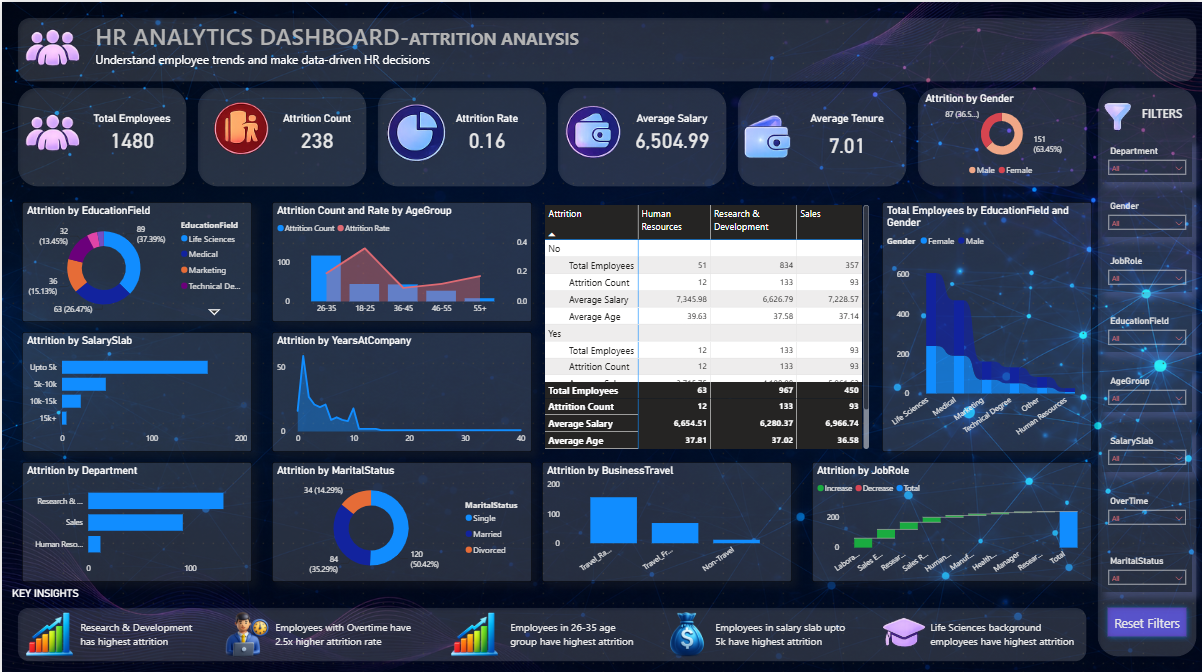

The dashboard page shown, as its layout file describes it:
{"tool":"powerbi","page":{"name":"Executive Dashboard","canvas":[1920,1080],"ordinal":0},"visuals":[{"type":"shape","box":[16,16,1904,120],"z":0},{"type":"image","box":[32,24,96,96],"z":1000},{"type":"pivotTable","fields":{"Rows":["HR Data.Attrition"],"Values":["Measures (3).Total Employees","Measures (3).Attrition Count","Measures (3).Average Salary","Measures (3).Average Age"],"Columns":["HR Data.Department"]},"box":[864,320,528,400],"z":2000},{"type":"shape","box":[304,128,288,176],"z":3000},{"type":"shape","box":[16,128,288,176],"z":4000},{"type":"textbox","box":[144,24,864,96],"z":5000},{"type":"image","box":[336,144,96,112],"z":6000},{"type":"shape","box":[1168,128,288,176],"z":7000},{"type":"shape","box":[880,128,288,176],"z":8000},{"type":"shape","box":[592,128,288,176],"z":9000},{"type":"card","title":"Total Employees","fields":{"Values":["Measures (3).Total Employees"]},"box":[144,176,128,64],"z":10000},{"type":"card","title":"Average Tenure","fields":{"Values":["Measures (3).Average Tenure"]},"box":[1280,176,144,80],"z":11000},{"type":"card","title":"Average Salary","fields":{"Values":["Measures (3).Average Salary"]},"box":[1008,176,128,64],"z":12000},{"type":"card","title":"Attrition Rate","fields":{"Values":["Measures (3).Attrition Rate"]},"box":[720,176,112,64],"z":13000},{"type":"card","title":"Attrition Count","fields":{"Values":["Measures (3).Attrition Count"]},"box":[448,176,112,64],"z":14000},{"type":"image","box":[32,160,96,96],"z":15000},{"type":"image","box":[1184,176,80,80],"z":16000},{"type":"image","box":[896,160,96,96],"z":17000},{"type":"image","box":[608,160,112,96],"z":18000},{"type":"shape","box":[1456,128,288,176],"z":19000},{"type":"donutChart","title":"Attrition by Gender","fields":{"Y":["Measures (3).Attrition Count"],"Category":["HR Data.Gender"]},"box":[1472,144,256,144],"z":20000},{"type":"donutChart","title":"Attrition by EducationField","fields":{"Category":["HR Data.EducationField"],"Y":["Measures (3).Attrition Count"]},"box":[32,320,368,192],"z":21000},{"type":"barChart","title":"Attrition by SalarySlab","fields":{"Y":["Measures (3).Attrition Count"],"Category":["HR Data.SalarySlab"]},"box":[32,528,368,192],"z":22000},{"type":"barChart","title":"Attrition by Department","fields":{"Y":["Measures (3).Attrition Count"],"Category":["HR Data.Department"]},"box":[32,736,368,192],"z":23000},{"type":"lineStackedColumnComboChart","title":"Attrition Count and Rate by AgeGroup","fields":{"Y":["Measures (3).Attrition Count"],"Y2":["Measures (3).Attrition Rate"],"Category":["HR Data.AgeGroup"]},"box":[432,320,416,192],"z":24000},{"type":"areaChart","title":"Attrition by YearsAtCompany","fields":{"Category":["HR Data.YearsAtCompany"],"Y":["Measures (3).Attrition Count"]},"box":[432,528,416,192],"z":25000},{"type":"donutChart","title":"Attrition by MaritalStatus","fields":{"Y":["Measures (3).Attrition Count"],"Category":["HR Data.MaritalStatus"]},"box":[432,736,416,192],"z":26000},{"type":"columnChart","title":"Attrition by BusinessTravel","fields":{"Category":["HR Data.BusinessTravel"],"Y":["Measures (3).Attrition Count"]},"box":[864,736,400,192],"z":27000},{"type":"waterfallChart","title":"Attrition by JobRole","fields":{"Category":["HR Data.JobRole"],"Y":["Measures (3).Attrition Count"]},"box":[1296,736,448,192],"z":28000},{"type":"ribbonChart","fields":{"Category":["HR Data.EducationField"],"Series":["HR Data.Gender"],"Y":["Measures (3).Total Employees"]},"box":[1408,320,336,400],"z":29000},{"type":"shape","title":"KEY INSIGHTS","box":[16,936,1728,128],"z":30000},{"type":"textbox","box":[432,984,232,64],"z":31000},{"type":"textbox","box":[808,984,224,64],"z":32000},{"type":"textbox","box":[1136,984,232,64],"z":33000},{"type":"textbox","box":[1480,984,256,64],"z":34000},{"type":"textbox","box":[120,984,200,64],"z":35000},{"type":"image","box":[352,976,80,72],"z":36000},{"type":"image","box":[24,976,104,72],"z":37000},{"type":"image","box":[1408,976,72,72],"z":38000},{"type":"image","box":[1048,976,96,72],"z":39000},{"type":"image","box":[704,976,104,72],"z":40000},{"type":"shape","box":[1744,128,176,928],"z":41000},{"type":"image","box":[1760,160,48,48],"z":42000},{"type":"textbox","box":[1808,160,96,48],"z":43000},{"type":"slicer","fields":{"Values":["HR Data.Department"]},"box":[1760,224,144,64],"z":44000},{"type":"slicer","fields":{"Values":["HR Data.Gender"]},"box":[1760,312,144,64],"z":45000},{"type":"slicer","fields":{"Values":["HR Data.JobRole"]},"box":[1760,400,144,64],"z":46000},{"type":"slicer","fields":{"Values":["HR Data.MaritalStatus"]},"box":[1760,880,144,64],"z":47000},{"type":"slicer","fields":{"Values":["HR Data.EducationField"]},"box":[1760,496,144,64],"z":48000},{"type":"slicer","fields":{"Values":["HR Data.SalarySlab"]},"box":[1760,688,144,64],"z":49000},{"type":"slicer","fields":{"Values":["HR Data.AgeGroup"]},"box":[1760,592,144,64],"z":50000},{"type":"slicer","fields":{"Values":["HR Data.OverTime"]},"box":[1760,784,144,64],"z":51000},{"type":"actionButton","box":[1760,960,144,64],"z":52000}]}

Visuals, with their boxes in screenshot pixels (x1, y1, x2, y2), scaled from the page's 1920x1080 canvas onto the 1202x672 screenshot:
shape: [x1=10, y1=10, x2=1201, y2=85]
image: [x1=20, y1=15, x2=80, y2=75]
pivotTable - HR Data.Attrition x Measures (3).Total Employees: [x1=541, y1=199, x2=871, y2=448]
shape: [x1=190, y1=80, x2=371, y2=189]
shape: [x1=10, y1=80, x2=190, y2=189]
textbox: [x1=90, y1=15, x2=631, y2=75]
image: [x1=210, y1=90, x2=270, y2=159]
shape: [x1=731, y1=80, x2=912, y2=189]
shape: [x1=551, y1=80, x2=731, y2=189]
shape: [x1=371, y1=80, x2=551, y2=189]
"Total Employees" card: [x1=90, y1=110, x2=170, y2=149]
"Average Tenure" card: [x1=801, y1=110, x2=891, y2=159]
"Average Salary" card: [x1=631, y1=110, x2=711, y2=149]
"Attrition Rate" card: [x1=451, y1=110, x2=521, y2=149]
"Attrition Count" card: [x1=280, y1=110, x2=351, y2=149]
image: [x1=20, y1=100, x2=80, y2=159]
image: [x1=741, y1=110, x2=791, y2=159]
image: [x1=561, y1=100, x2=621, y2=159]
image: [x1=381, y1=100, x2=451, y2=159]
shape: [x1=912, y1=80, x2=1092, y2=189]
"Attrition by Gender" donutChart: [x1=922, y1=90, x2=1082, y2=179]
"Attrition by EducationField" donutChart: [x1=20, y1=199, x2=250, y2=319]
"Attrition by SalarySlab" barChart: [x1=20, y1=329, x2=250, y2=448]
"Attrition by Department" barChart: [x1=20, y1=458, x2=250, y2=577]
"Attrition Count and Rate by AgeGroup" lineStackedColumnComboChart: [x1=270, y1=199, x2=531, y2=319]
"Attrition by YearsAtCompany" areaChart: [x1=270, y1=329, x2=531, y2=448]
"Attrition by MaritalStatus" donutChart: [x1=270, y1=458, x2=531, y2=577]
"Attrition by BusinessTravel" columnChart: [x1=541, y1=458, x2=791, y2=577]
"Attrition by JobRole" waterfallChart: [x1=811, y1=458, x2=1092, y2=577]
ribbonChart - HR Data.EducationField x HR Data.Gender: [x1=881, y1=199, x2=1092, y2=448]
"KEY INSIGHTS" shape: [x1=10, y1=582, x2=1092, y2=662]
textbox: [x1=270, y1=612, x2=416, y2=652]
textbox: [x1=506, y1=612, x2=646, y2=652]
textbox: [x1=711, y1=612, x2=856, y2=652]
textbox: [x1=927, y1=612, x2=1087, y2=652]
textbox: [x1=75, y1=612, x2=200, y2=652]
image: [x1=220, y1=607, x2=270, y2=652]
image: [x1=15, y1=607, x2=80, y2=652]
image: [x1=881, y1=607, x2=927, y2=652]
image: [x1=656, y1=607, x2=716, y2=652]
image: [x1=441, y1=607, x2=506, y2=652]
shape: [x1=1092, y1=80, x2=1201, y2=657]
image: [x1=1102, y1=100, x2=1132, y2=129]
textbox: [x1=1132, y1=100, x2=1192, y2=129]
slicer - HR Data.Department: [x1=1102, y1=139, x2=1192, y2=179]
slicer - HR Data.Gender: [x1=1102, y1=194, x2=1192, y2=234]
slicer - HR Data.JobRole: [x1=1102, y1=249, x2=1192, y2=289]
slicer - HR Data.MaritalStatus: [x1=1102, y1=548, x2=1192, y2=587]
slicer - HR Data.EducationField: [x1=1102, y1=309, x2=1192, y2=348]
slicer - HR Data.SalarySlab: [x1=1102, y1=428, x2=1192, y2=468]
slicer - HR Data.AgeGroup: [x1=1102, y1=368, x2=1192, y2=408]
slicer - HR Data.OverTime: [x1=1102, y1=488, x2=1192, y2=528]
actionButton: [x1=1102, y1=597, x2=1192, y2=637]
